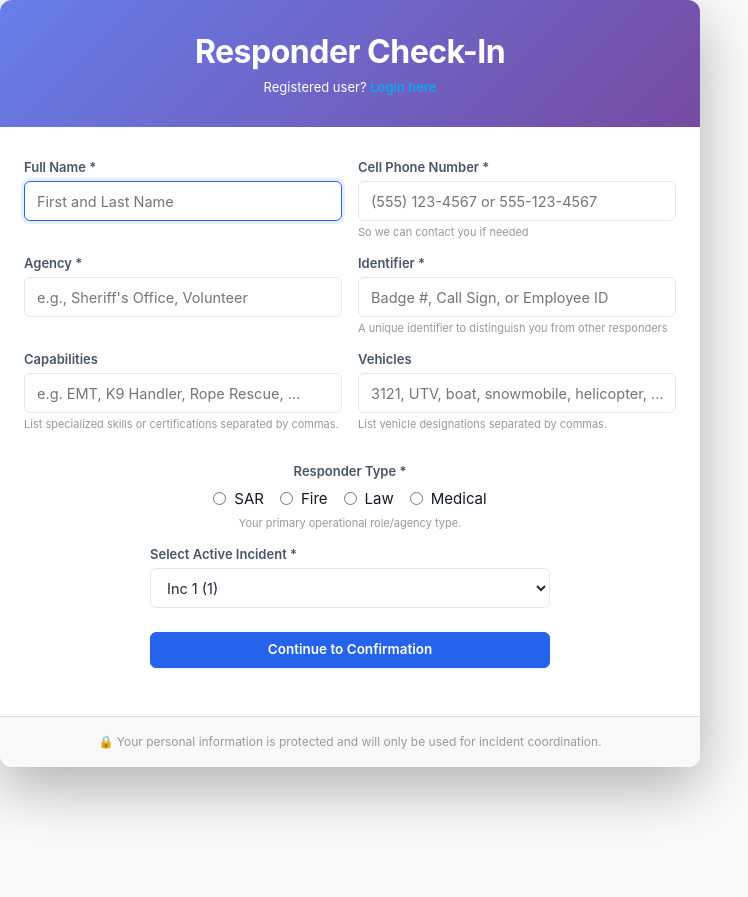
Test: ResponderCheckin confirmation screen › captures the selected responder type via radio buttons
The width and height of the screenshot is (748, 897).
Fill out preceding required fields to pass validation
Step 1. Type "Steve" into the field labelled "Full Name *" → (183, 201), box 24,181 -> 342,221
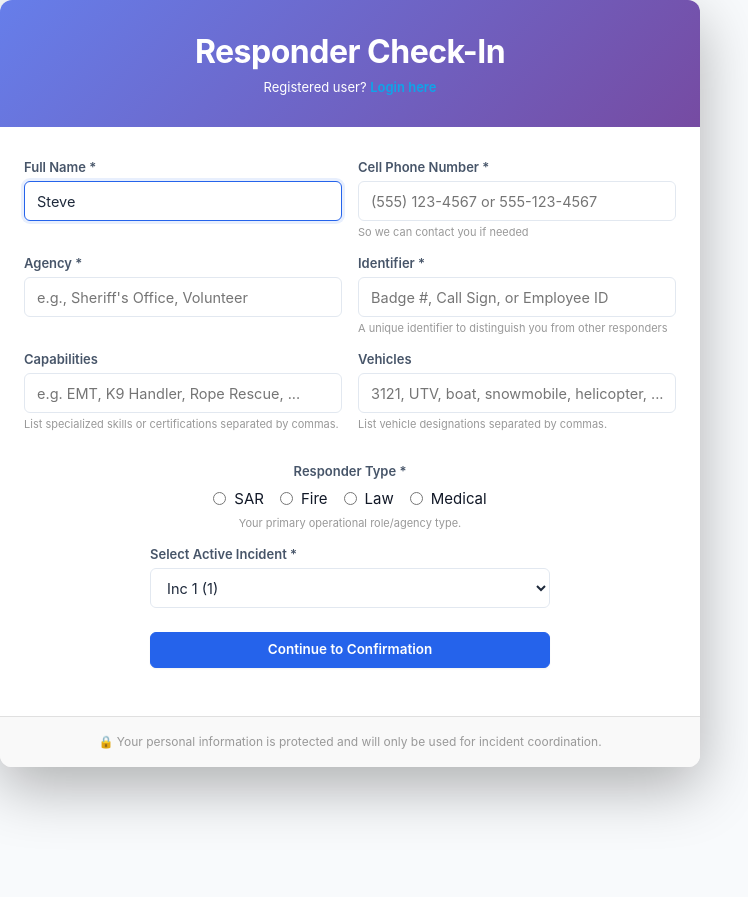
Step 2. Type "SAR" into the field labelled "Agency *" → (183, 297), box 24,277 -> 342,317
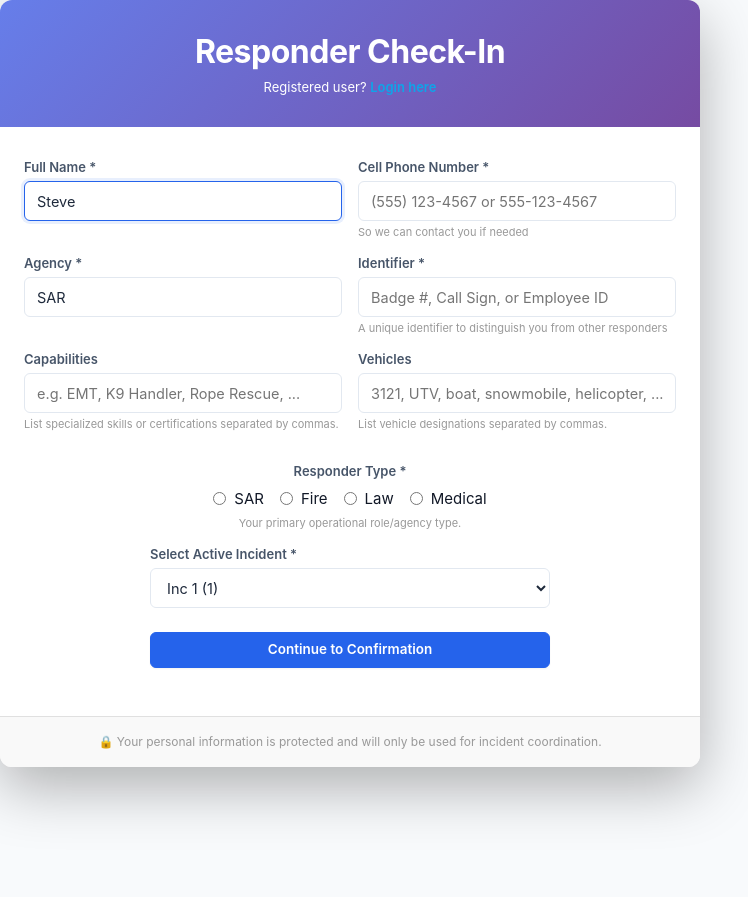
Step 3. Type "ID1" into the field labelled "Identifier *" → (517, 297), box 358,277 -> 676,317
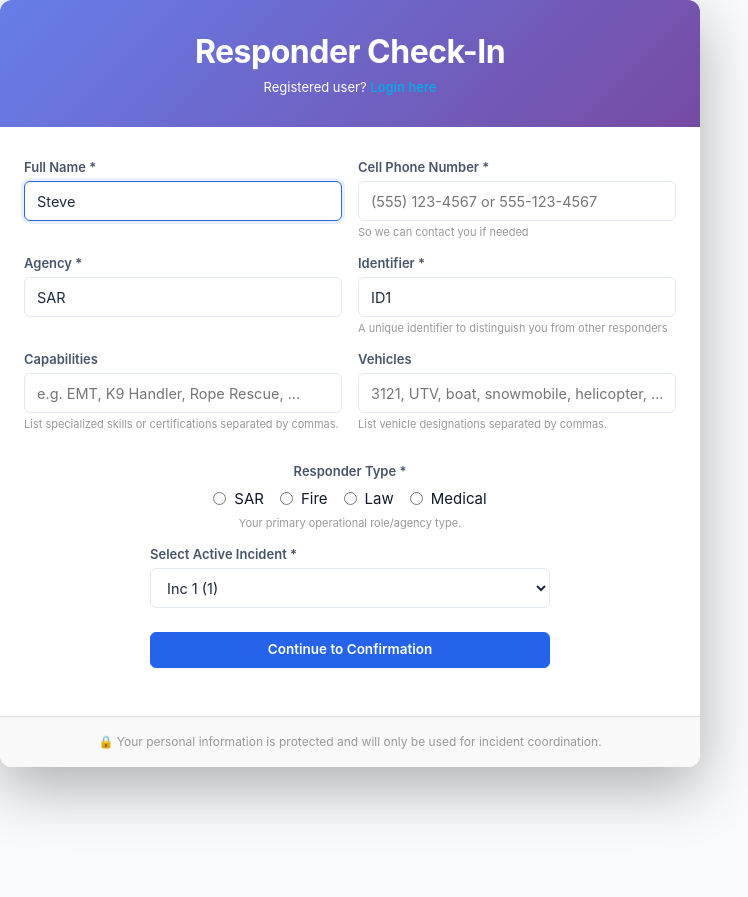
Step 4. Type "1234567890" into the field labelled "Cell Phone Number *" → (517, 201), box 358,181 -> 676,221
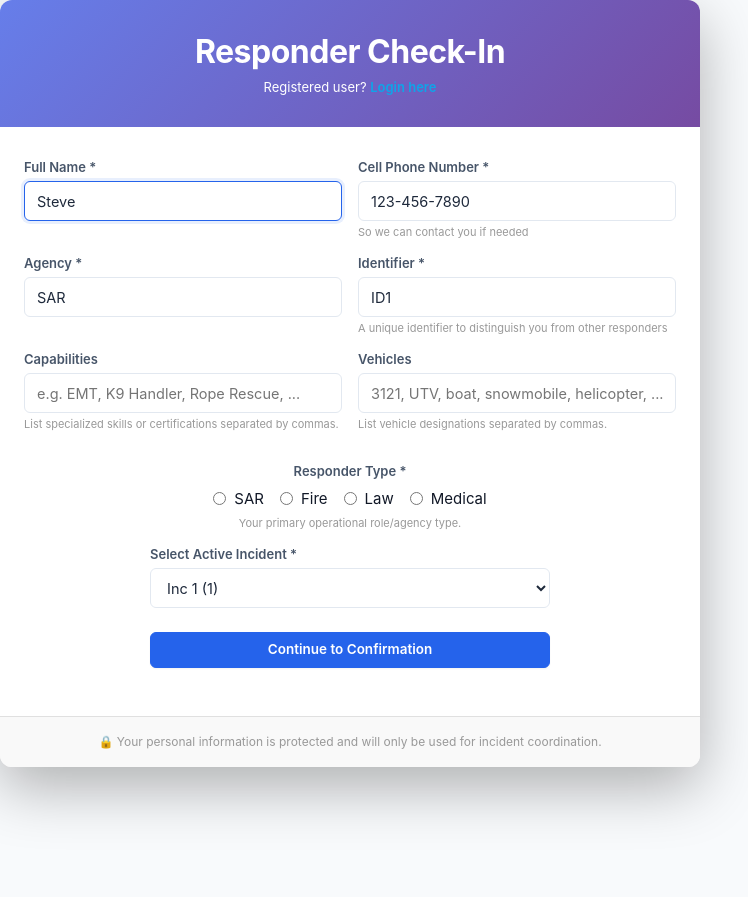
Step 5. Click the radio button labelled "Fire" → (286, 498), box 280,492 -> 293,505
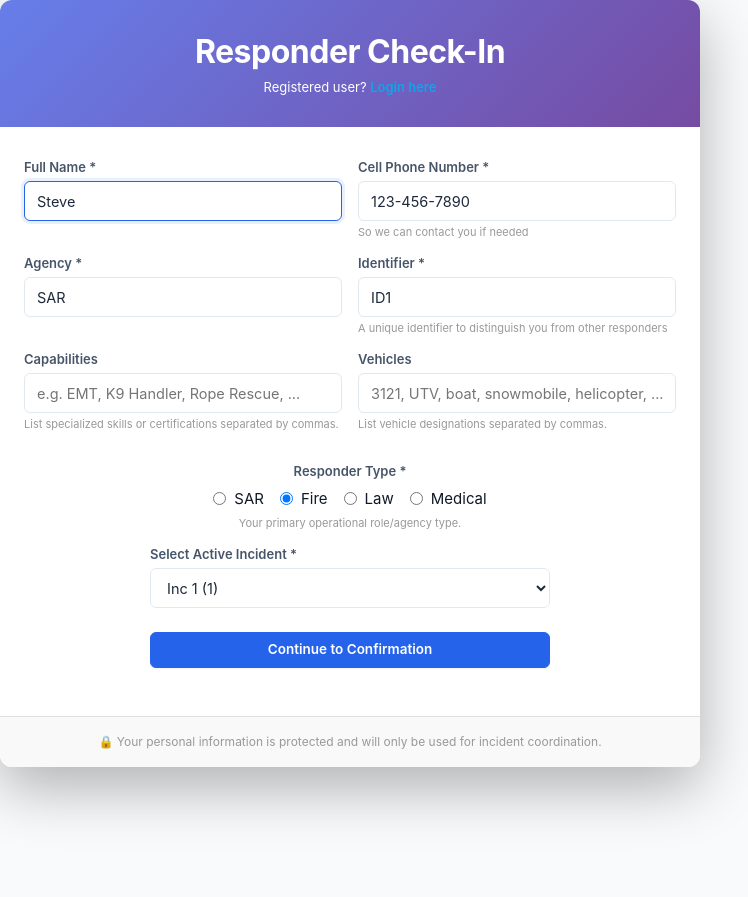
Now the radio button labelled "Fire" is checked, box 280,492 -> 293,505
Step 6. Click the button "Continue to Confirmation" → (350, 650), box 150,632 -> 550,668
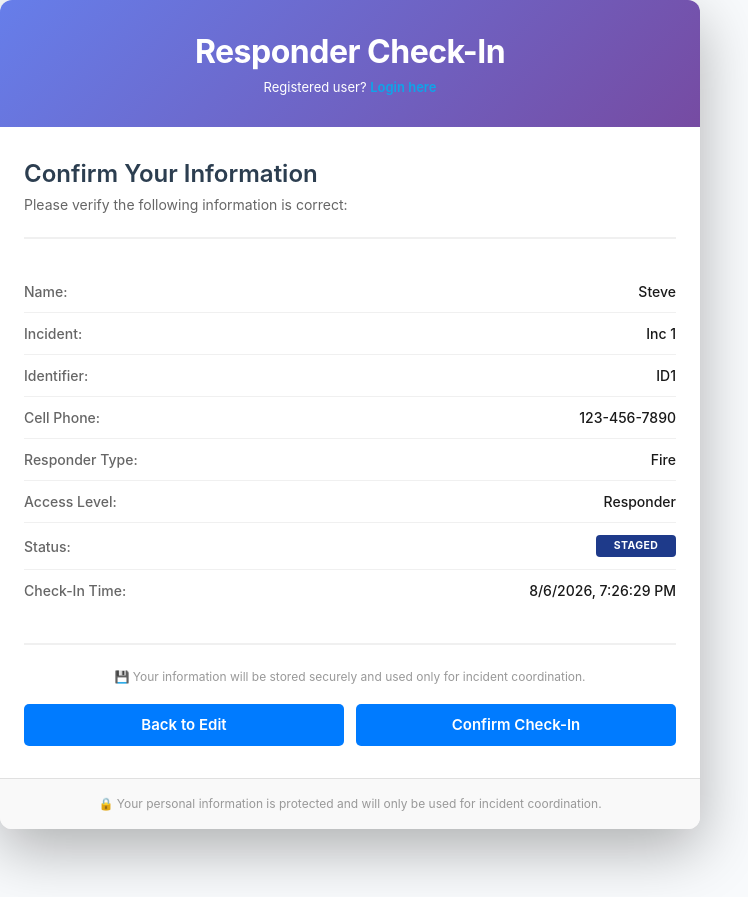
Expected: the text "Fire" is shown, 651,451 -> 676,468
Now the heading "Confirm Your Information" is shown, box 24,159 -> 318,188
